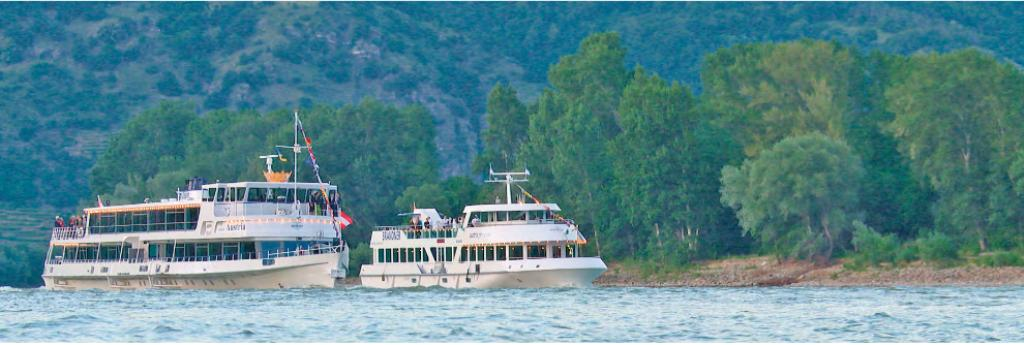PassengerShip: (34, 150, 356, 294), (358, 182, 616, 292)
